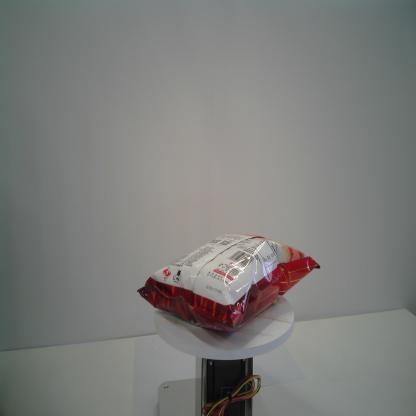Puffed Food: (136, 232, 321, 334)
